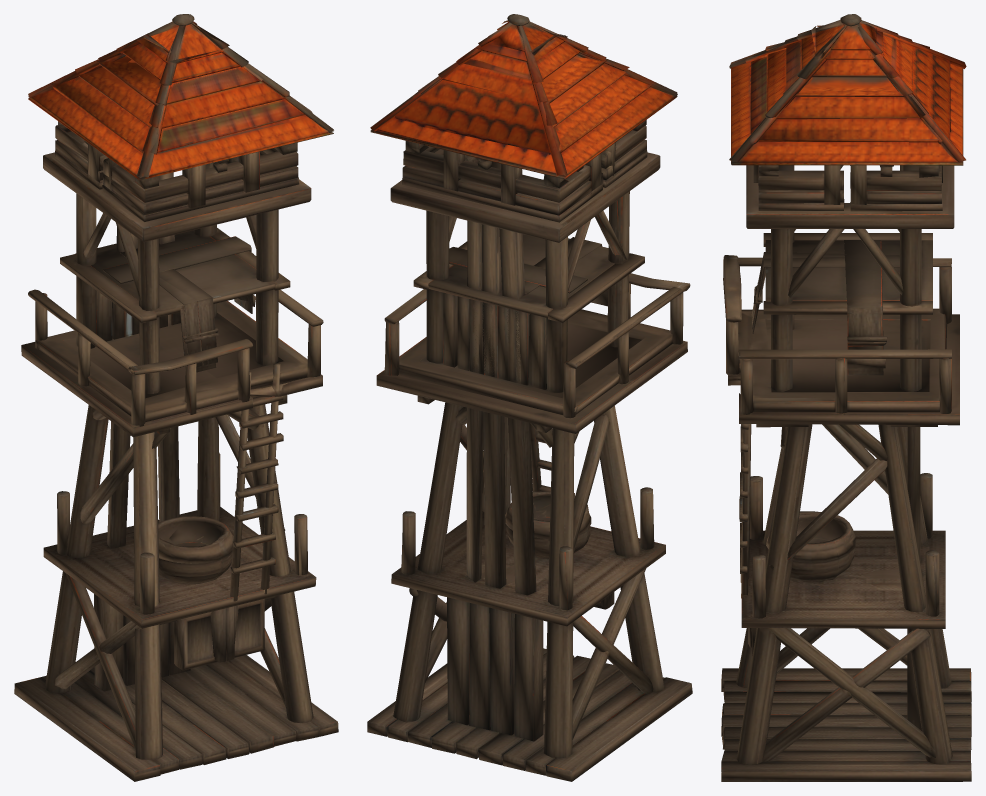
The model's file is watchtower.glb.
3 views of the same model, side by side, from view 1: azimuth 30°, elevation 25°; view 2: azimuth 150°, elevation 25°; view 3: azimuth 270°, elevation 25° (orthographic). The views are drawn at different scales.
Bounding box in the file's own units: 0.2935 × 0.9507 × 0.2988.
1 material, 1 textured.
